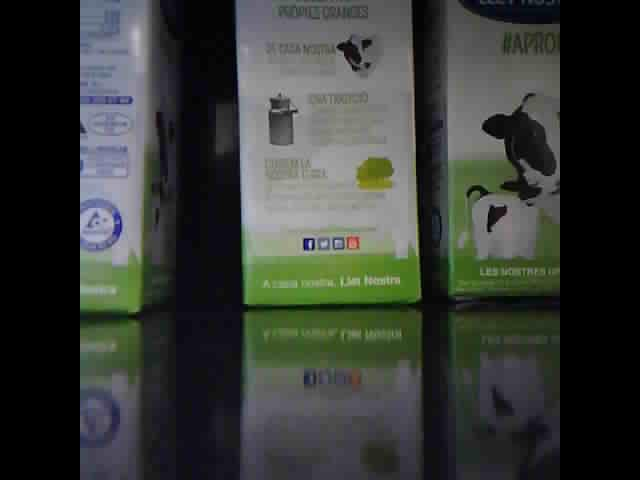leche: (240, 1, 420, 309), (431, 5, 561, 300), (83, 5, 180, 312)
